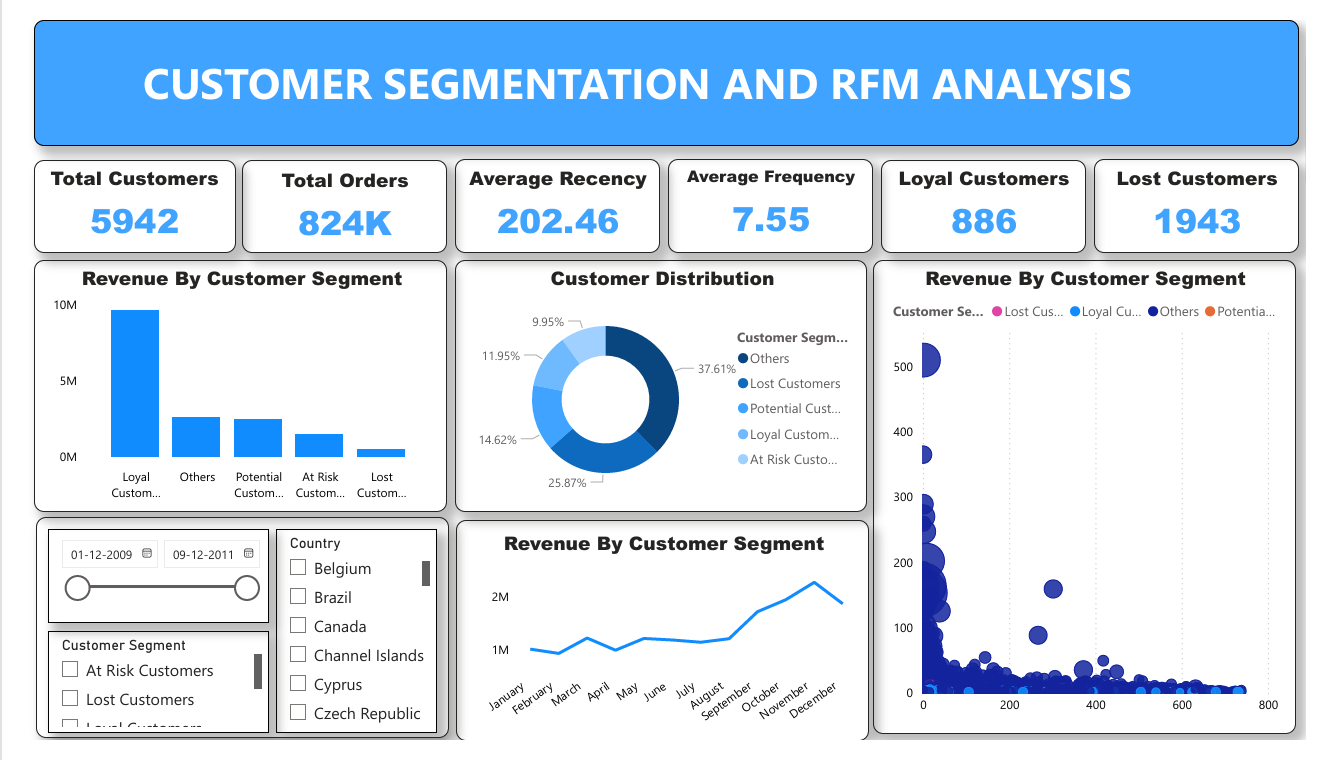

What the dashboard file says about the page in this screenshot:
{"tool":"powerbi","page":{"name":"Customer Segmentation","canvas":[1280,720],"ordinal":3},"visuals":[{"type":"shape","box":[678.9,181.9,601.1,280.1],"z":0},{"type":"shape","box":[1,0,186.7,719.8],"z":1000},{"type":"textbox","box":[16.5,35,154.7,49.6],"z":2000},{"type":"shape","box":[640,66.1,219.9,113.8],"z":2500,"group":"g3"},{"type":"shape","box":[856.9,66.1,212,113.8],"z":2500,"group":"g4"},{"type":"shape","box":[200.4,67.1,220,113.8],"z":2500,"group":"g1"},{"type":"shape","box":[420.2,67.1,219.9,113.8],"z":2500,"group":"g2"},{"type":"shape","box":[1068,67.1,212,113.8],"z":2500,"group":"g5"},{"type":"textbox","box":[9.7,66.1,173.1,37],"z":3000},{"type":"card","title":"Total Orders","fields":{"Values":["CountNonNull(Sample - Superstore.Order ID)"]},"box":[857.9,85.4,203.4,75.9],"z":3000,"group":"g4"},{"type":"card","title":"Total Loss","fields":{"Values":["Sample - Superstore.Total Loss"]},"box":[640,85.6,219.9,75.9],"z":3000,"group":"g3"},{"type":"card","title":"Profit Margin","fields":{"Values":["Sample - Superstore.Profit Margin %"]},"box":[1068.7,86.4,204.3,75.9],"z":3000,"group":"g5"},{"type":"card","title":"Total Sales","fields":{"Values":["Sum(Sample - Superstore.Sales)"]},"box":[200.4,86.6,220,75.9],"z":3000,"group":"g1"},{"type":"card","title":"Total Profit","fields":{"Values":["Sample - Superstore.Total Profit"]},"box":[420.2,86.6,219.9,75.9],"z":3000,"group":"g2"},{"type":"group","id":"g1","title":"Group 1","box":[200.4,67.1,219.8,113.8],"z":4000},{"type":"group","id":"g2","title":"Group 1","box":[420.2,67.1,219.8,113.8],"z":5000},{"type":"shape","box":[206,414,456.2,305.4],"z":5000,"group":"g8"},{"type":"group","id":"g3","title":"Group 1","box":[640,66.1,219.8,113.8],"z":6000},{"type":"group","id":"g4","title":"Group 1","box":[856.9,66.1,219.8,113.8],"z":7000},{"type":"group","id":"g5","title":"Group 1","box":[1068,67.1,212,113.8],"z":8000},{"type":"textbox","box":[209.1,20.2,269.7,46.5],"z":9000},{"type":"shape","box":[209.1,180.9,454.2,221.8],"z":9000,"group":"g6"},{"type":"lineChart","title":"Orders Over Time","fields":{"Category":["Sample - Superstore.Order Date.Variation.Date Hierarchy.Month"],"Y":["CountNonNull(Sample - Superstore.Order ID)"]},"box":[215.5,180.9,440.6,221.8],"z":10000,"group":"g6"},{"type":"group","id":"g6","title":"Group 2","box":[209.1,180.9,454.2,221.8],"z":11000},{"type":"shape","box":[674.9,473.9,596.2,246.1],"z":11000,"group":"g7"},{"type":"slicer","fields":{"Values":["Sample - Superstore.Region"]},"box":[8.8,103.1,171.2,78.8],"z":12000},{"type":"donutChart","title":"Sales  by Segement","fields":{"Y":["CountNonNull(Sample - Superstore.Sales)"],"Category":["Sample - Superstore.Segment"]},"box":[694.4,475.9,564.1,239.8],"z":12000,"group":"g7"},{"type":"slicer","fields":{"Values":["Sample - Superstore.Category"]},"box":[478.5,4.9,322.9,59.3],"z":13000},{"type":"slicer","fields":{"Values":["Sample - Superstore.Segment"]},"box":[805.3,0,474.7,66.1],"z":14000},{"type":"slicer","fields":{"Values":["Sample - Superstore.Order Date.Variation.Date Hierarchy.Year"]},"box":[12.6,195.5,163.4,140.1],"z":15000},{"type":"actionButton","box":[16.2,460.6,128.3,40.4],"z":16000},{"type":"actionButton","box":[16.2,409.1,128.3,40.4],"z":17000},{"type":"actionButton","box":[16.2,512.1,128.3,40.4],"z":18000},{"type":"actionButton","box":[13.1,564.6,131.3,40.4],"z":19000},{"type":"actionButton","box":[8.8,672.1,100.2,39.9],"z":20000},{"type":"group","id":"g7","title":"Group 3","box":[674.9,473.9,596.2,246.1],"z":21000},{"type":"group","id":"g8","title":"Group 4","box":[206,414,456.2,305.4],"z":22000},{"type":"columnChart","title":"Top Sales by Customer","fields":{"Y":["Sample - Superstore.Total Sales"],"Category":["Sample - Superstore.Customer ID"]},"box":[687.7,195.5,576.8,255.8],"z":22500},{"type":"tableEx","title":"Top 10 Customers","fields":{"Values":["Sample - Superstore.Customer Name","Sample - Superstore.Product Name"]},"box":[221.6,420.8,427,286],"z":24000,"group":"g8"}]}

Visuals, with their boxes in screenshot pixels (x1, y1, x2, y2), scaled from the page's 1280x720 canvas onto the 1324x760 screenshot:
shape: (left=702, top=192, right=1323, bottom=488)
shape: (left=1, top=0, right=194, bottom=759)
textbox: (left=17, top=37, right=177, bottom=89)
shape: (left=662, top=70, right=889, bottom=190)
shape: (left=886, top=70, right=1106, bottom=190)
shape: (left=207, top=71, right=435, bottom=191)
shape: (left=435, top=71, right=662, bottom=191)
shape: (left=1105, top=71, right=1323, bottom=191)
textbox: (left=10, top=70, right=189, bottom=109)
"Total Orders" card: (left=887, top=90, right=1098, bottom=170)
"Total Loss" card: (left=662, top=90, right=889, bottom=170)
"Profit Margin" card: (left=1105, top=91, right=1317, bottom=171)
"Total Sales" card: (left=207, top=91, right=435, bottom=172)
"Total Profit" card: (left=435, top=91, right=662, bottom=172)
"Group 1" group: (left=207, top=71, right=435, bottom=191)
"Group 1" group: (left=435, top=71, right=662, bottom=191)
shape: (left=213, top=437, right=685, bottom=759)
"Group 1" group: (left=662, top=70, right=889, bottom=190)
"Group 1" group: (left=886, top=70, right=1114, bottom=190)
"Group 1" group: (left=1105, top=71, right=1323, bottom=191)
textbox: (left=216, top=21, right=495, bottom=70)
shape: (left=216, top=191, right=686, bottom=425)
"Orders Over Time" lineChart: (left=223, top=191, right=679, bottom=425)
"Group 2" group: (left=216, top=191, right=686, bottom=425)
shape: (left=698, top=500, right=1315, bottom=759)
slicer - Sample - Superstore.Region: (left=9, top=109, right=186, bottom=192)
"Sales  by Segement" donutChart: (left=718, top=502, right=1302, bottom=755)
slicer - Sample - Superstore.Category: (left=495, top=5, right=829, bottom=68)
slicer - Sample - Superstore.Segment: (left=833, top=0, right=1323, bottom=70)
slicer - Sample - Superstore.Order Date.Variation.Date Hierarchy.Year: (left=13, top=206, right=182, bottom=354)
actionButton: (left=17, top=486, right=149, bottom=529)
actionButton: (left=17, top=432, right=149, bottom=474)
actionButton: (left=17, top=541, right=149, bottom=583)
actionButton: (left=14, top=596, right=149, bottom=639)
actionButton: (left=9, top=709, right=113, bottom=752)
"Group 3" group: (left=698, top=500, right=1315, bottom=759)
"Group 4" group: (left=213, top=437, right=685, bottom=759)
"Top Sales by Customer" columnChart: (left=711, top=206, right=1308, bottom=476)
"Top 10 Customers" tableEx: (left=229, top=444, right=671, bottom=746)
